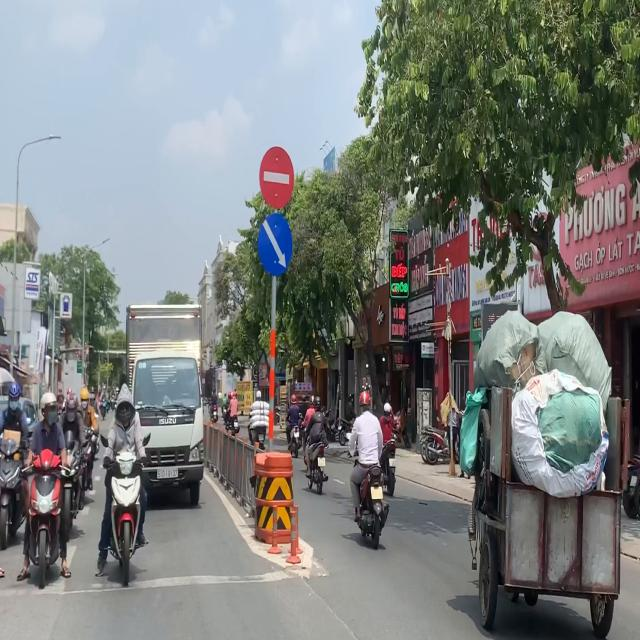Cam nguoc chieu: (259, 145, 294, 209)
Hieu lenh: (258, 212, 292, 276)
